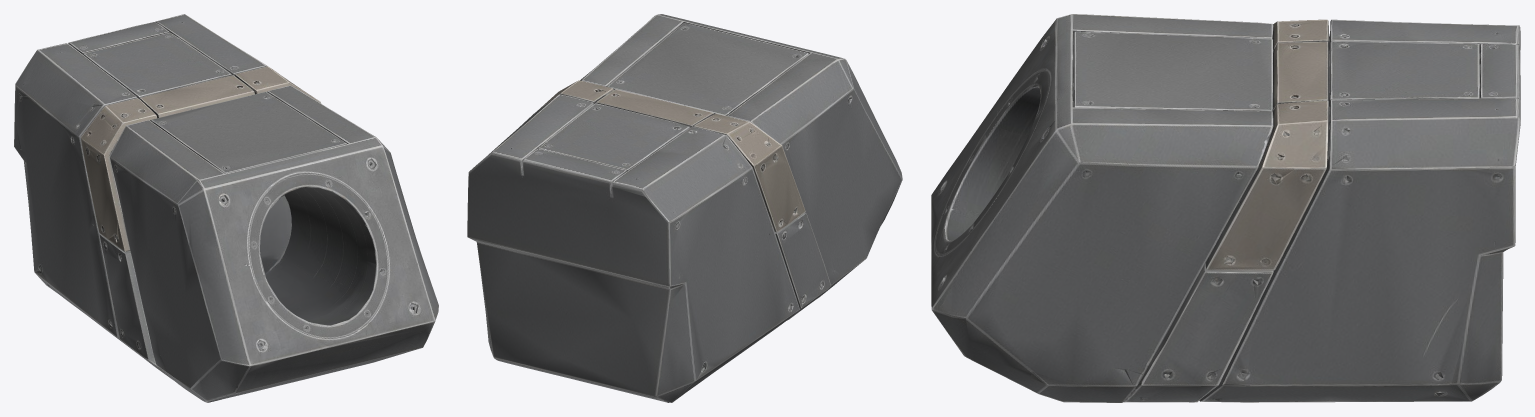
The model's file is shared_defence_battery__elevation_module.glb.
3 renders of one model, left to right at view 1: azimuth 30°, elevation 25°; view 2: azimuth 150°, elevation 25°; view 3: azimuth 270°, elevation 25°, orthographic. The views are drawn at different scales.
Parts seen in each view (by area): view 1: mesh_node; view 2: mesh_node; view 3: mesh_node.
Boxes of the visible parts, x1,y1,x2,y2 form: mesh_node: (14,14,438,402); mesh_node: (467,14,902,402); mesh_node: (931,14,1520,402).
Size of the model in its own units: 3.7 by 3.54 by 6.71.
Materials: 1 (1 with a texture image).
